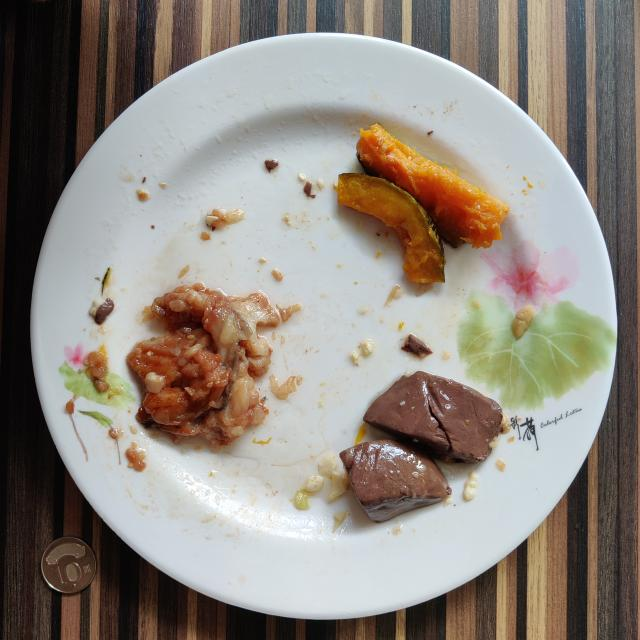Kabayaki sea bream fillet: (128, 284, 281, 449)
coin: (41, 536, 96, 594)
pig blood curd: (340, 371, 502, 521)
pumpkin: (338, 124, 509, 284)
